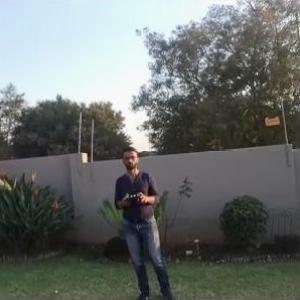follow: (111, 143, 183, 299)
